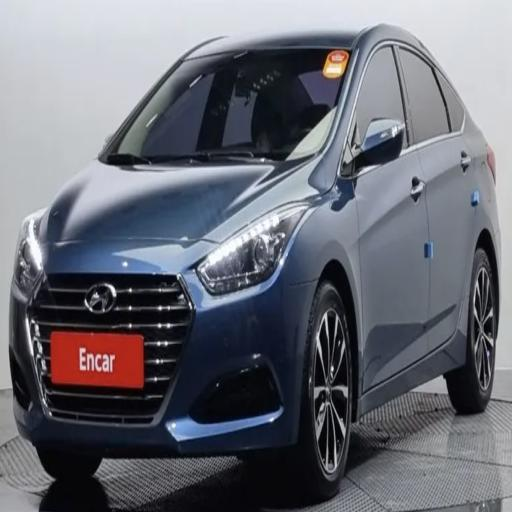normal: (15, 6, 503, 504)
